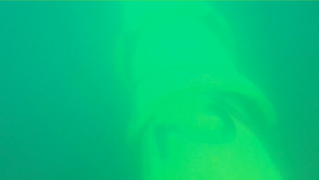2: (153, 102, 238, 166)
pipe: (115, 1, 284, 179)
